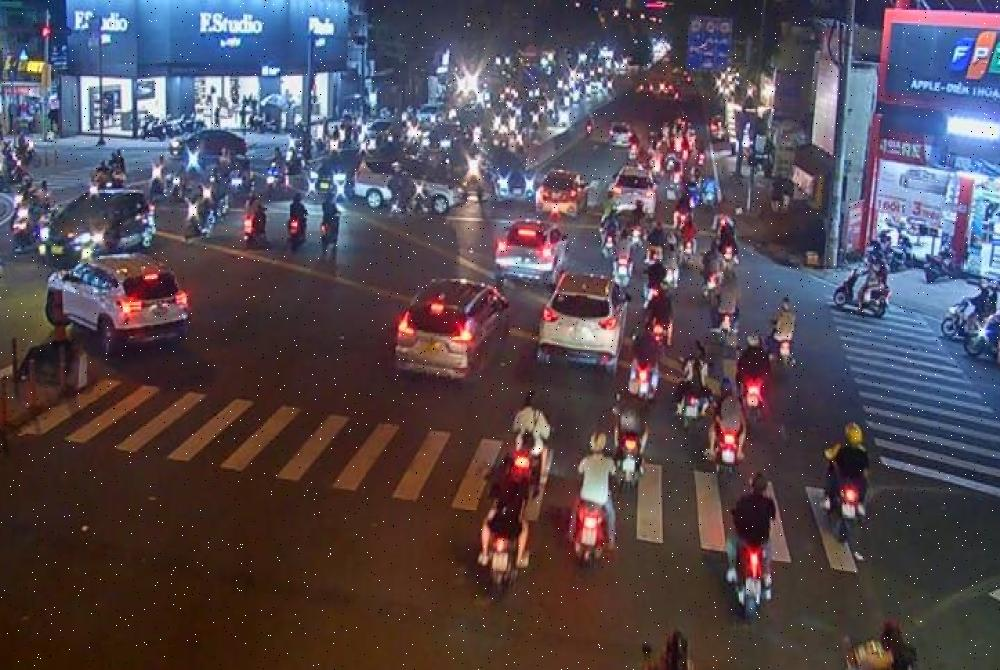car: (44, 253, 194, 360), (386, 274, 514, 388), (534, 277, 630, 370), (42, 187, 155, 266)
